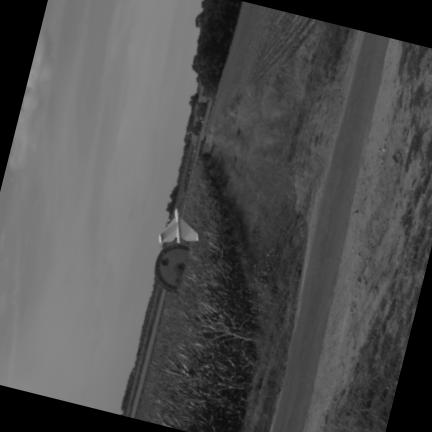Shahed: (159, 208, 197, 242)
